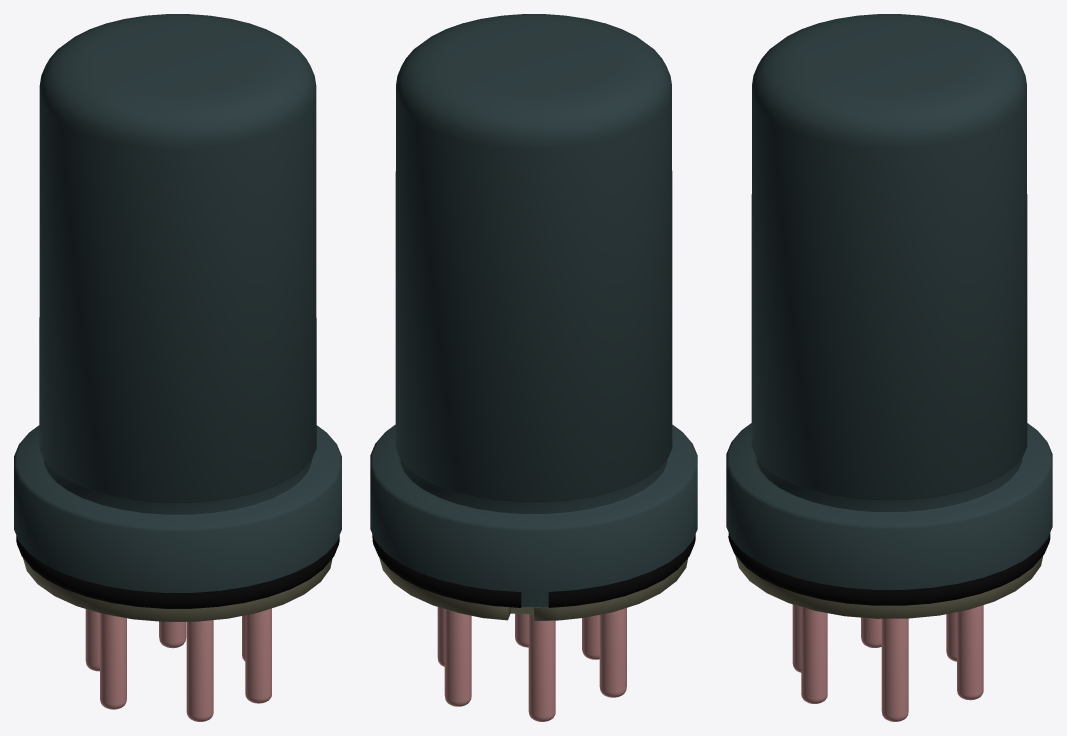
File: bank3.fbx
3 renders of one model, left to right at view 1: azimuth 30°, elevation 25°; view 2: azimuth 150°, elevation 25°; view 3: azimuth 270°, elevation 25°, orthographic.
Parts seen in each view (by area): view 1: bank3_LOD0; view 2: bank3_LOD0; view 3: bank3_LOD0.
Part boxes in pixels (bbox=[...]): bank3_LOD0: bbox=[14, 14, 341, 721]; bank3_LOD0: bbox=[370, 14, 697, 721]; bank3_LOD0: bbox=[726, 14, 1052, 721].
Size of what is drawn, in the model's own units: 1.65 by 3.48 by 1.65.
